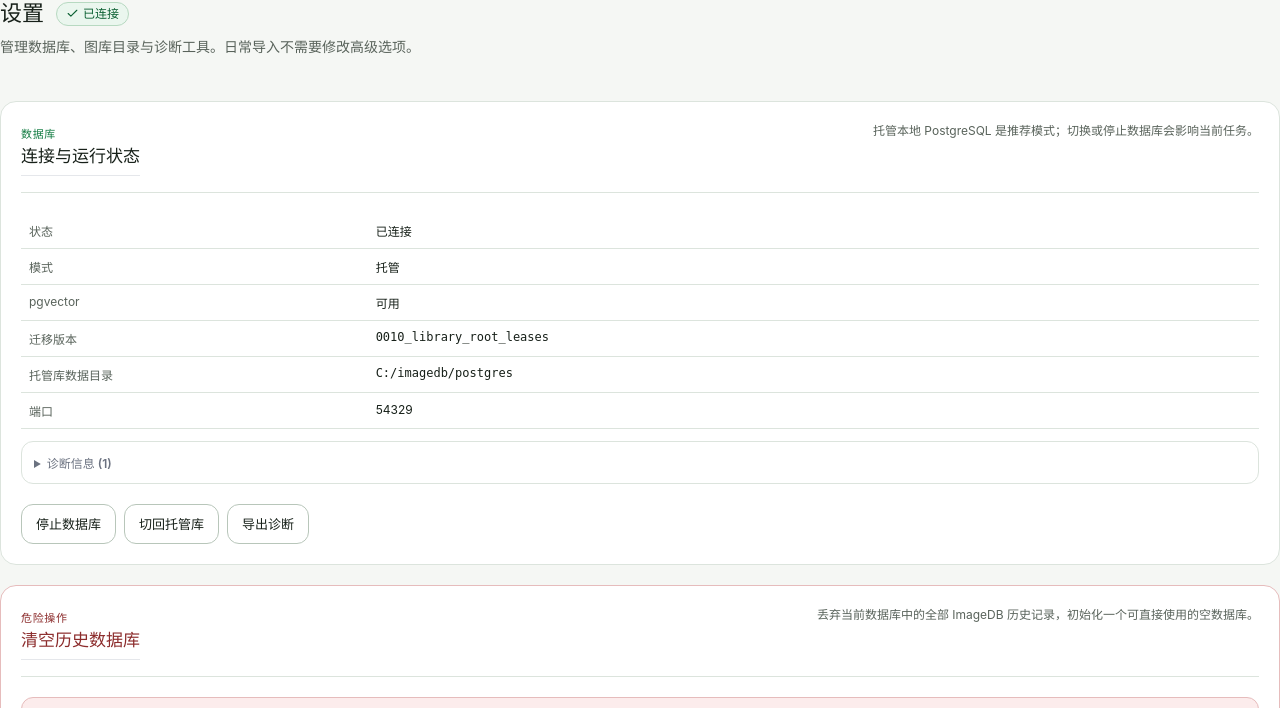
Test case: SettingsPage external PostgreSQL GUI › exports diagnostics from the settings page
This screenshot has width=1280, height=708.
Click the button "导出诊断" at (268, 524), box [227,504,309,544]
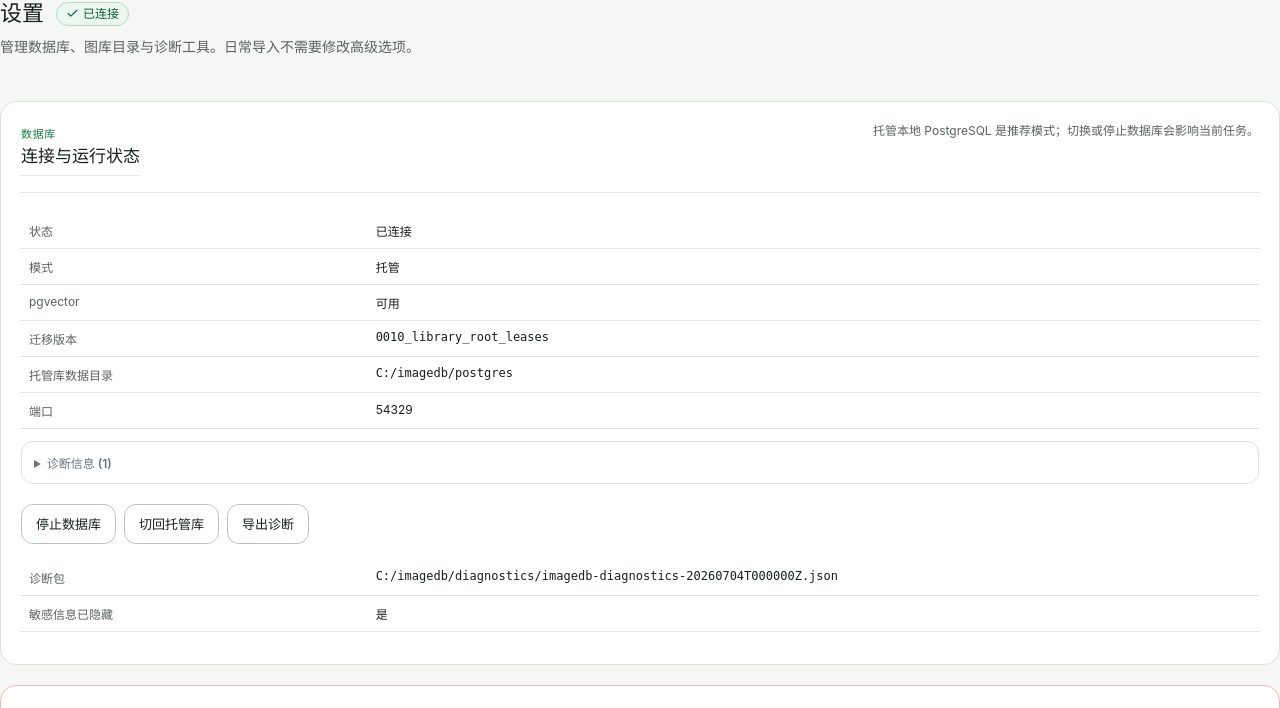
Expected: the text "imagedb-diagnostics-20260704T000000Z.json" is shown, [376,569,838,583]
Expected: the text "敏感信息已隐藏" is shown, [21,596,368,632]
